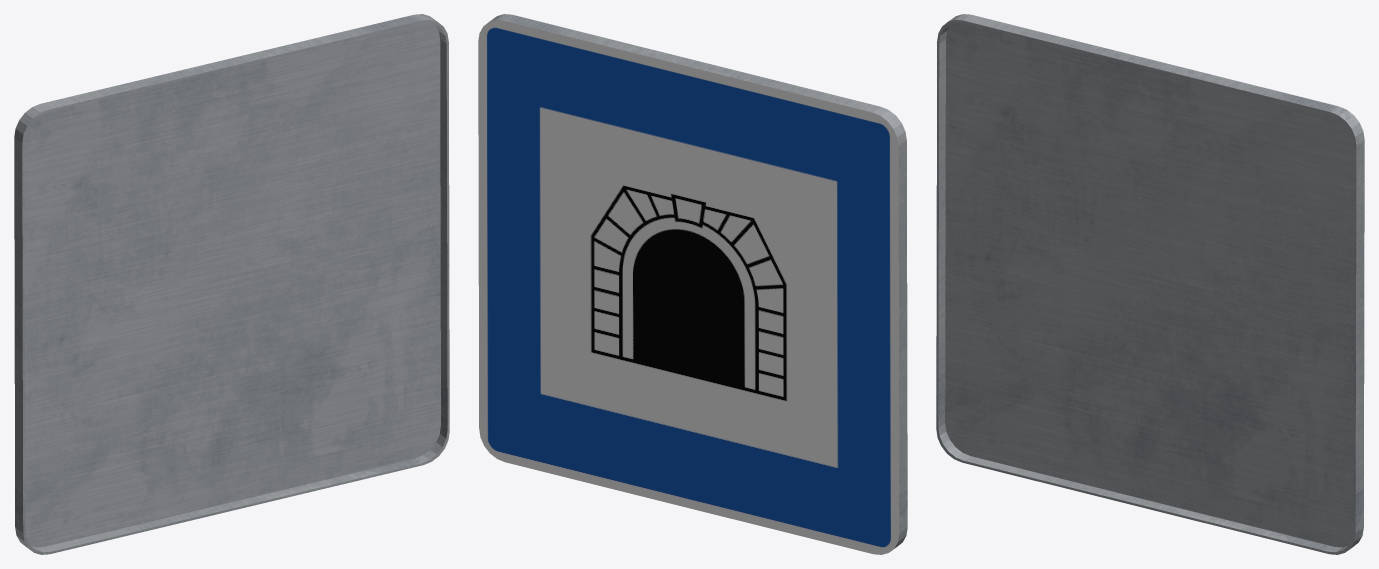
Rendered from Tunnel.fbx.
3 views of the same model, side by side, from view 1: azimuth 30°, elevation 25°; view 2: azimuth 150°, elevation 25°; view 3: azimuth 330°, elevation 25° (orthographic).
Visible parts, largest first — view 1: Tunnel; view 2: Tunnel; view 3: Tunnel.
Part boxes in pixels (x1,y1,x2,y2): Tunnel: (14, 14, 449, 554); Tunnel: (478, 14, 907, 554); Tunnel: (936, 14, 1364, 554).
Bounding box in the file's own units: 0.0281 × 0.6002 × 0.6001.
